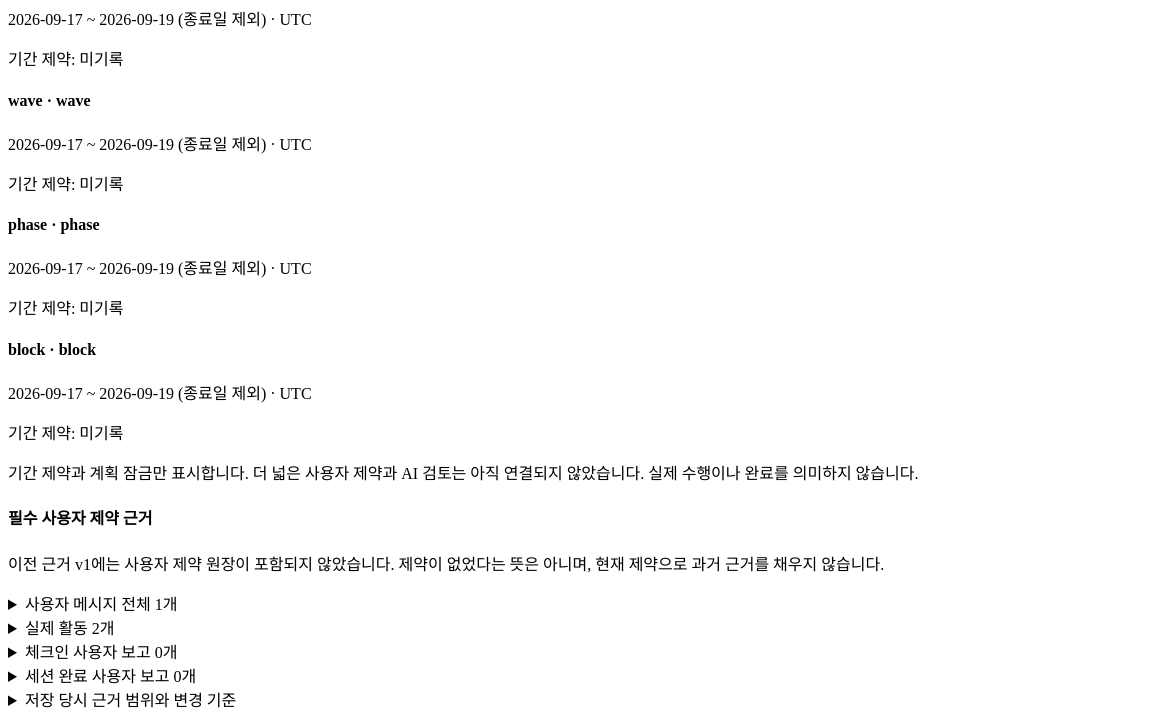
Test: frozen evidence view › distinguishes pinned historical plan from captured current head, unknown activity time from in-window data, and known zero from missing
This screenshot has width=1152, height=719.
(page scrolled)
Click the heading "실제 활동 2개" at (70, 628), box 25,620 -> 114,636
(page scrolled)
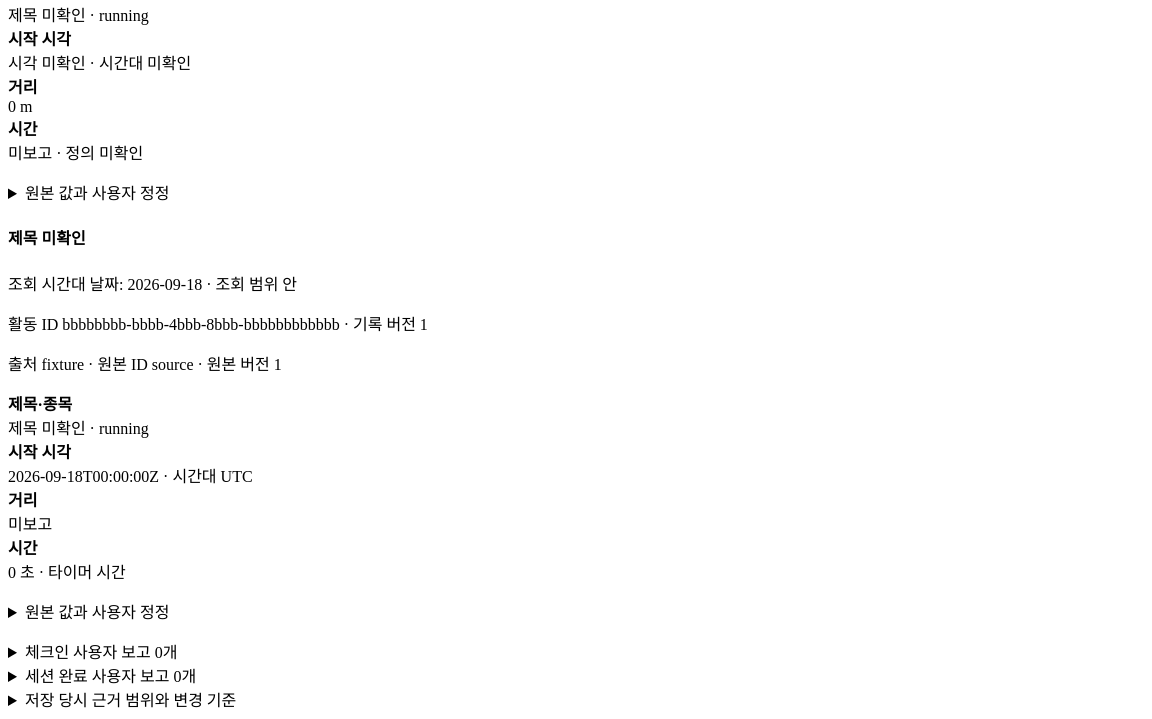
Click the heading "저장 당시 근거 범위와 변경 기준" at (131, 700), box 25,692 -> 236,709
(page scrolled)
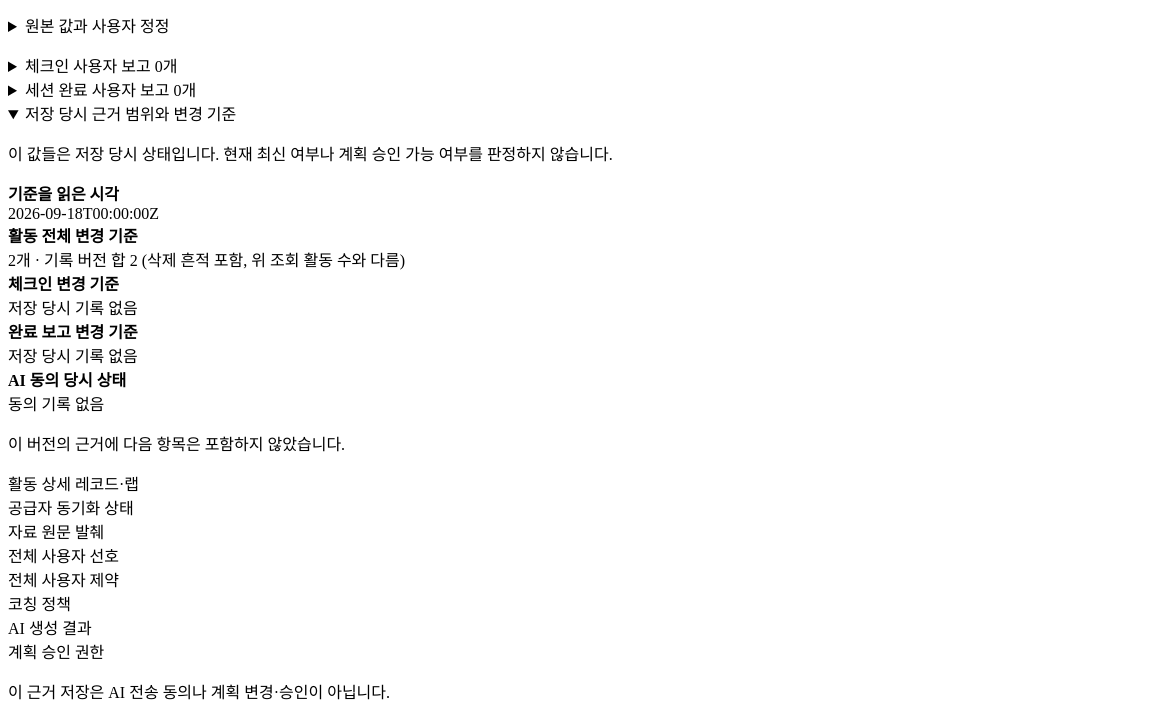
Result: the text "이 값들은 저장 당시 상태입니다. 현재 최신 여부나 계획 승인 가능 여부를 판정하지 않습니다." is shown at 8,146 -> 613,163
Result: the list item "활동 상세 레코드·랩" is shown at 8,476 -> 139,493
